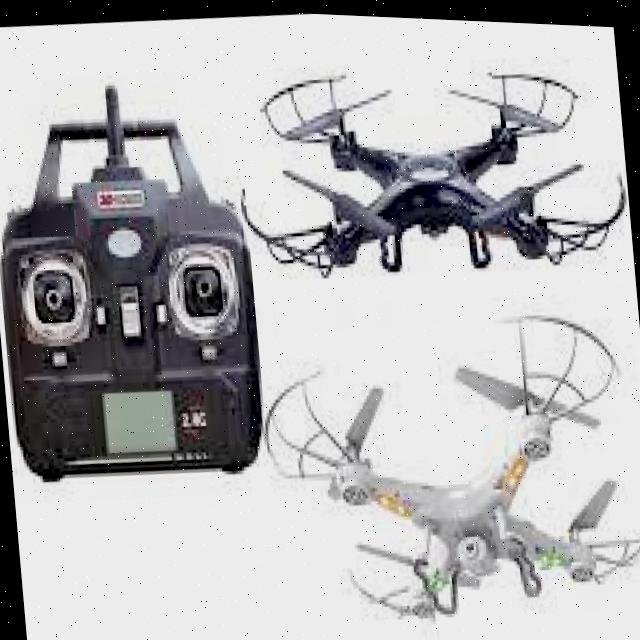drone: (252, 278, 640, 640), (215, 20, 636, 316)
